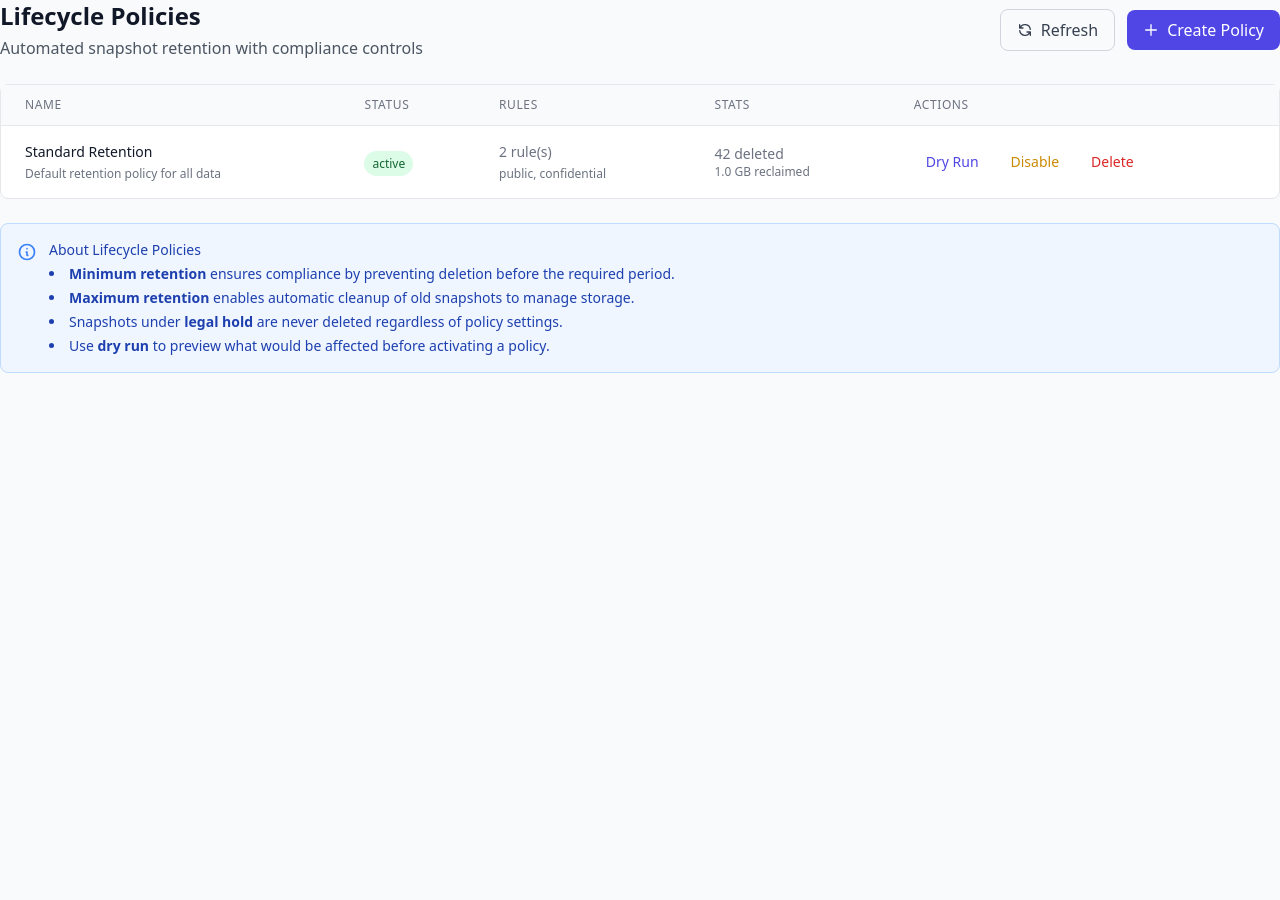
Scenario: LifecyclePolicies › opens dry run modal on Dry Run click
Click the button "Dry Run": (952, 162) [914,148,990,176]
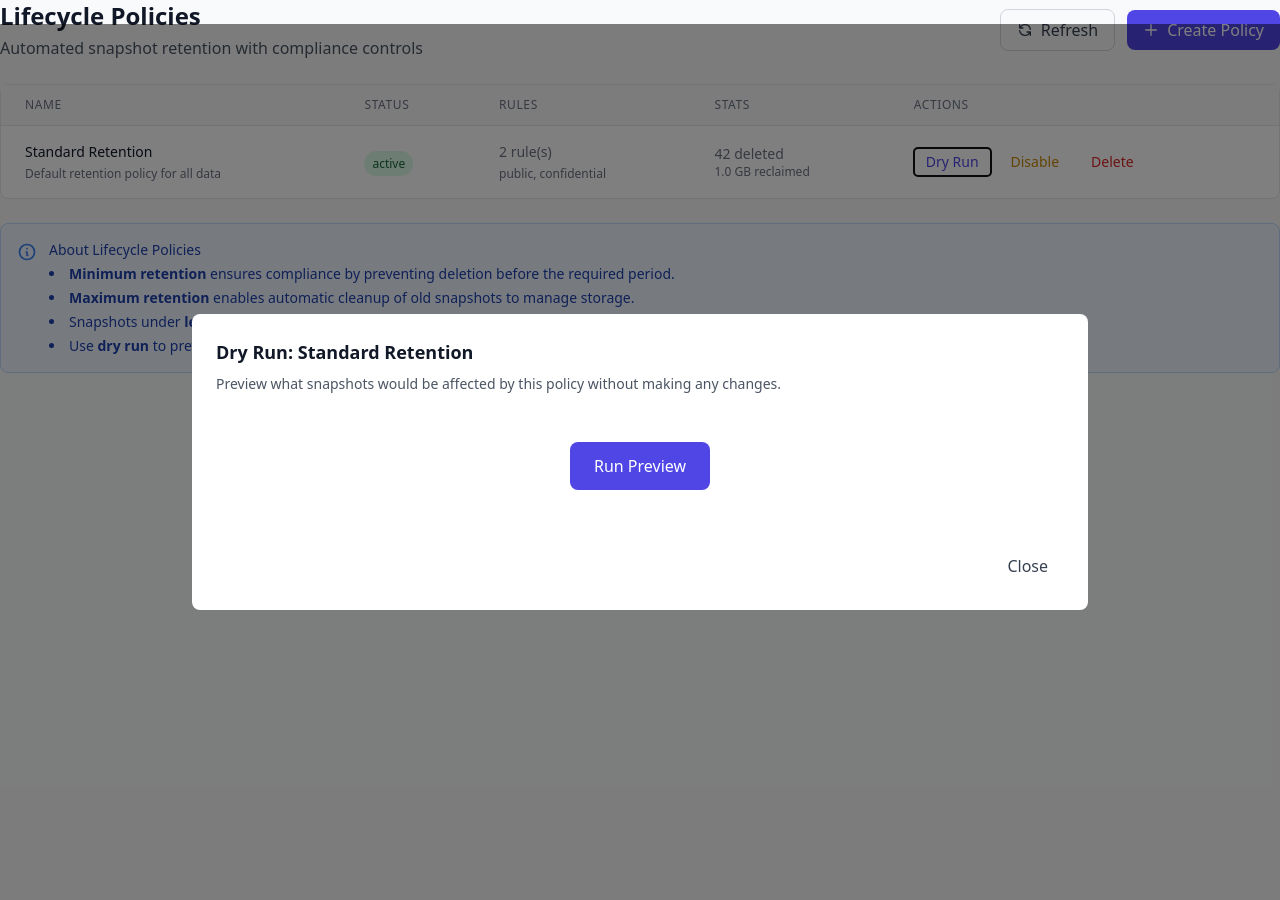
Now the heading "Dry Run: Standard Retention" is shown, box [216,340,473,364]
Now the button "Run Preview" is shown, box [570,442,710,490]
